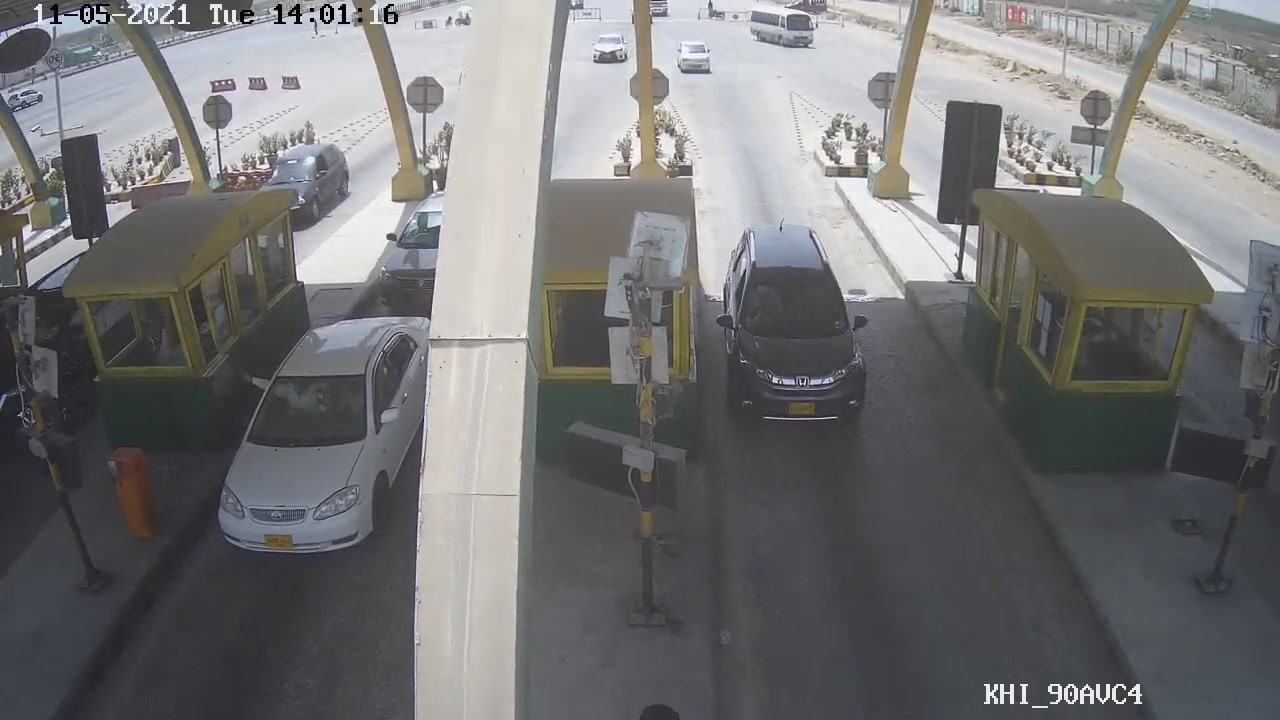F1: (709, 205, 882, 434)
